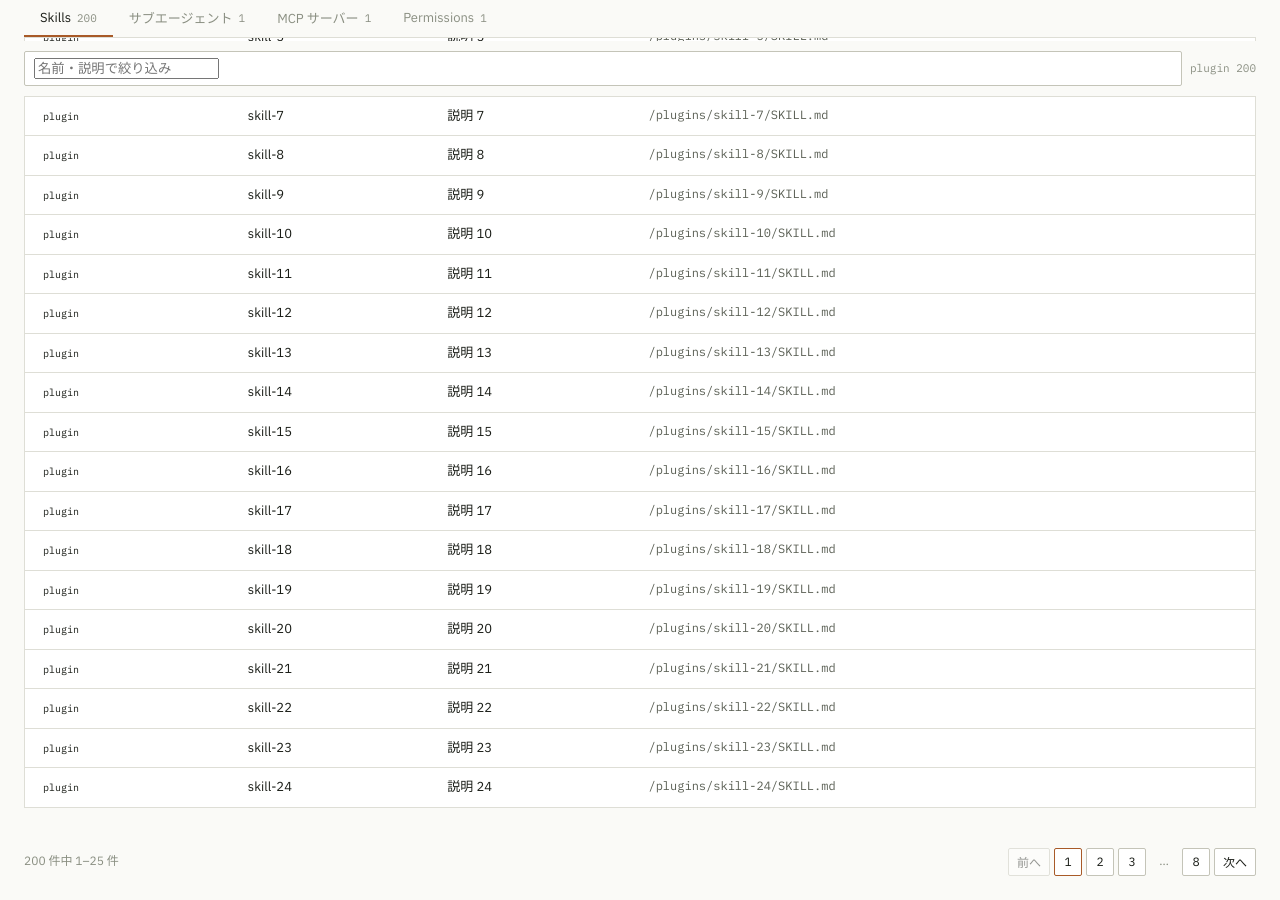
it: Catalog › paginates a long list instead of capping and hiding rows
(page scrolled)
Expected: the text "200 件中 1–25 件" is shown, [24,852,119,871]
What coordinates should you click on to do the following:
click the button "8"
I would click on:
 (1196, 862)
Its box is [1182,848,1210,876].
(page scrolled)
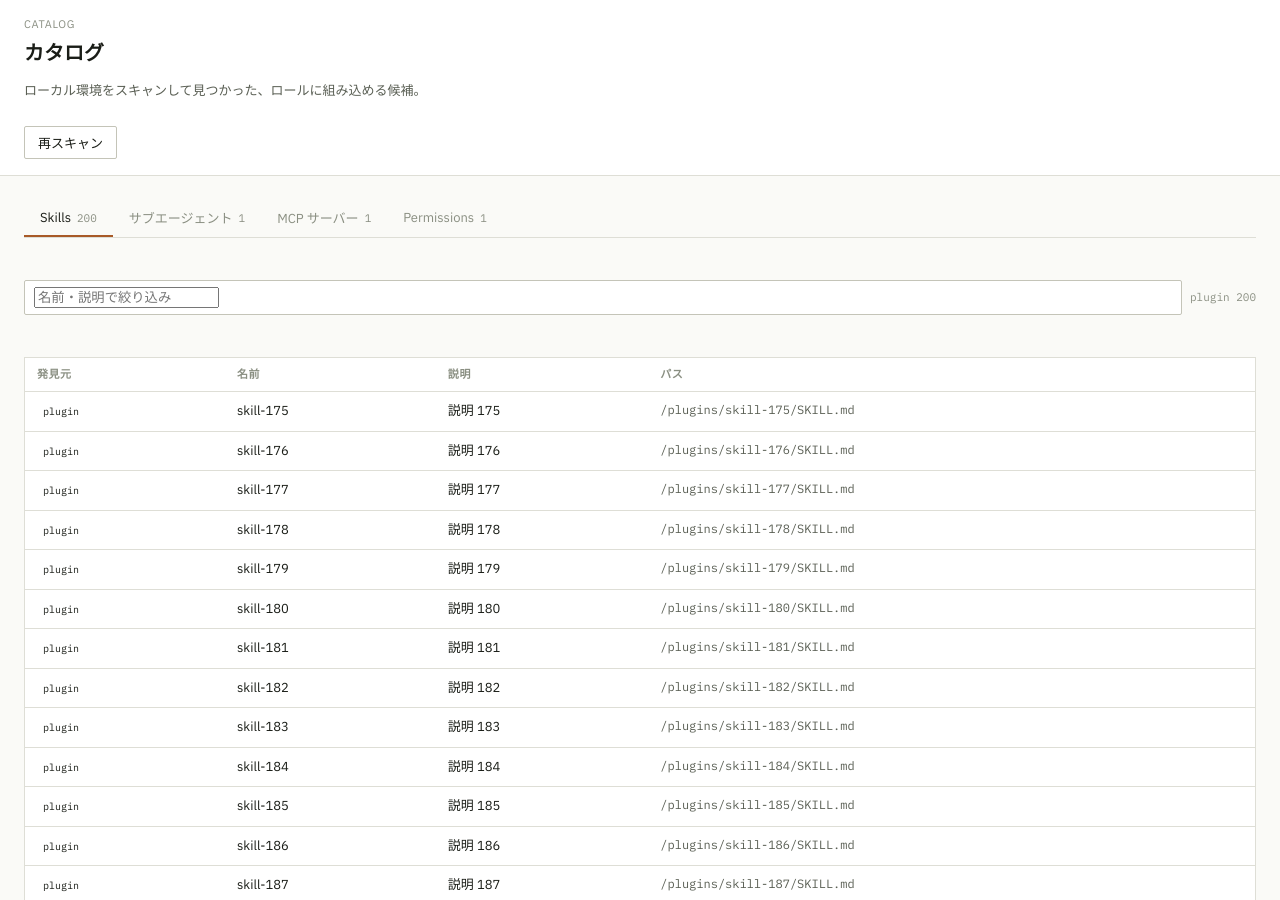
Expected: the text "skill-175" is shown, [225,392,436,431]
